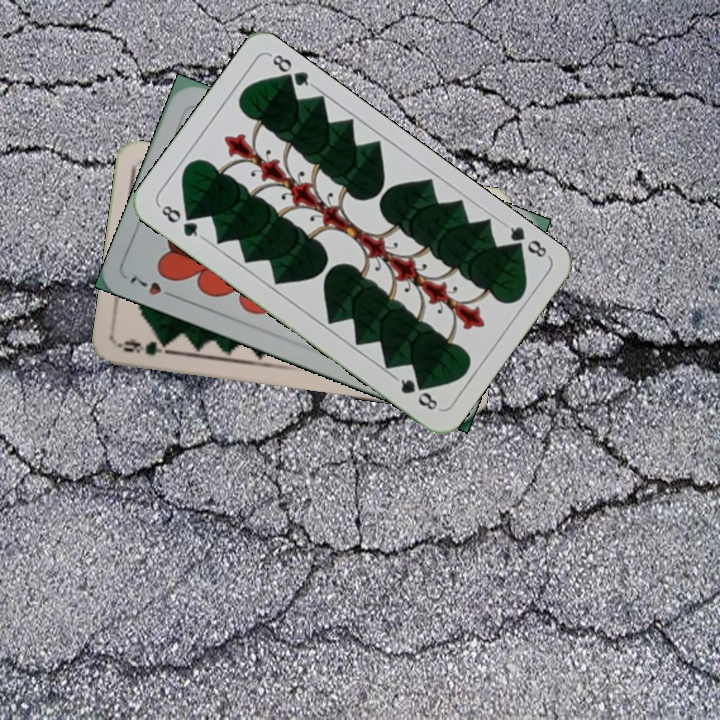G8: (500, 219, 552, 261), (155, 201, 206, 241)
G9: (116, 335, 175, 358)
H7: (125, 271, 181, 302)
